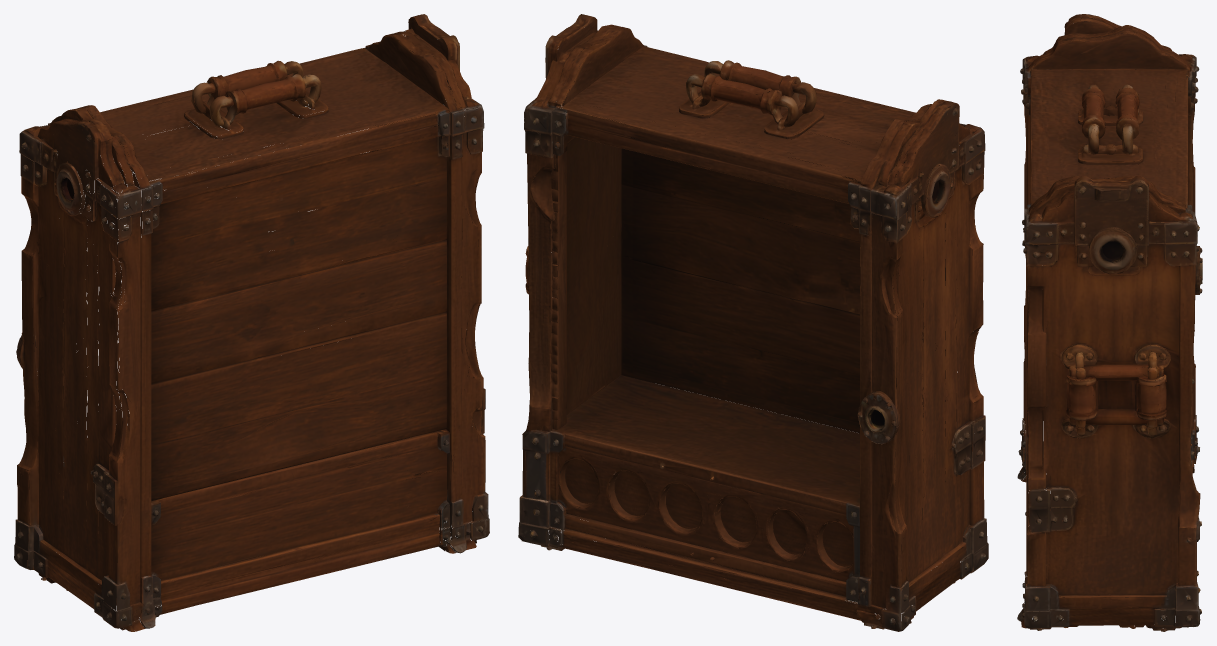
The model's file is merchant_cabinet_sculpt.fbx.
3 views of the same model, side by side, from view 1: azimuth 30°, elevation 25°; view 2: azimuth 150°, elevation 25°; view 3: azimuth 270°, elevation 25° (orthographic). The views are drawn at different scales.
Parts seen in each view (by area): view 1: merchant_cabinet_sculpt_CabinetSculpt; view 2: merchant_cabinet_sculpt_CabinetSculpt; view 3: merchant_cabinet_sculpt_CabinetSculpt.
Boxes of the visible parts, x1,y1,x2,y2 form: merchant_cabinet_sculpt_CabinetSculpt: (14, 14, 489, 631); merchant_cabinet_sculpt_CabinetSculpt: (518, 14, 988, 631); merchant_cabinet_sculpt_CabinetSculpt: (1017, 14, 1202, 631).
Size of the model in its own units: 84.23 by 97.82 by 36.36.
1 material, 1 textured.
